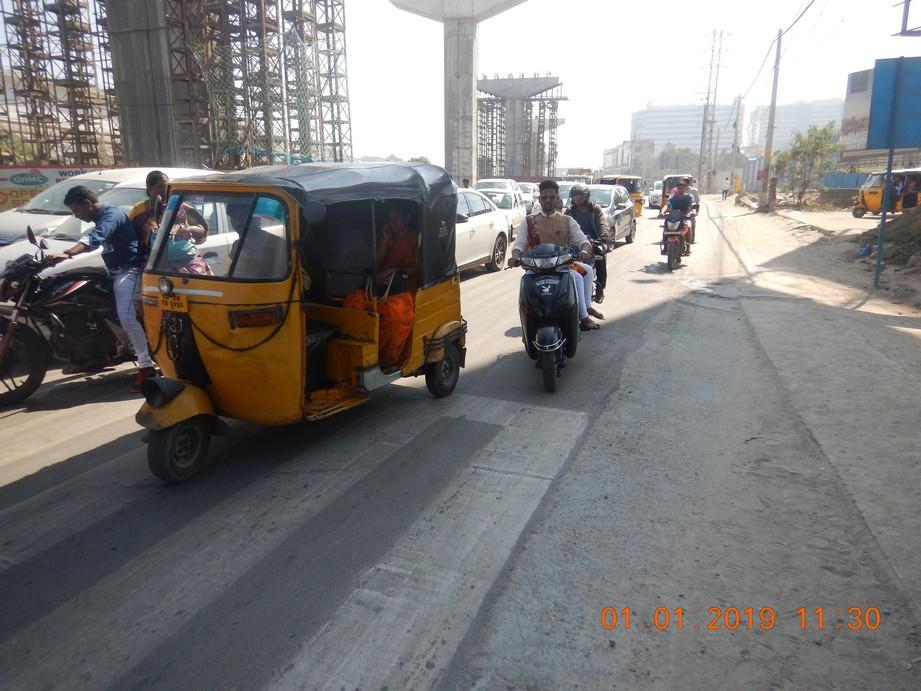with_helmet: (557, 176, 623, 321)
without_helmet: (512, 172, 589, 397), (635, 146, 696, 270)
